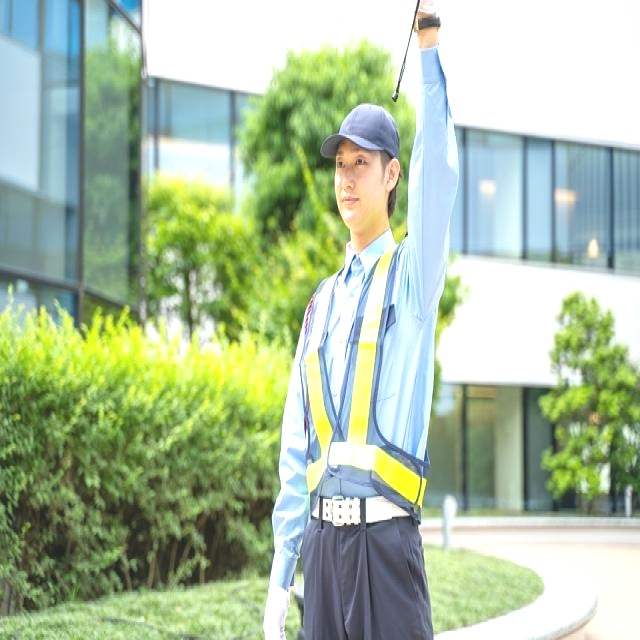Con_Chaleco: (291, 250, 429, 519)
Sin_Casco_Mascarrilla: (323, 103, 399, 243)
